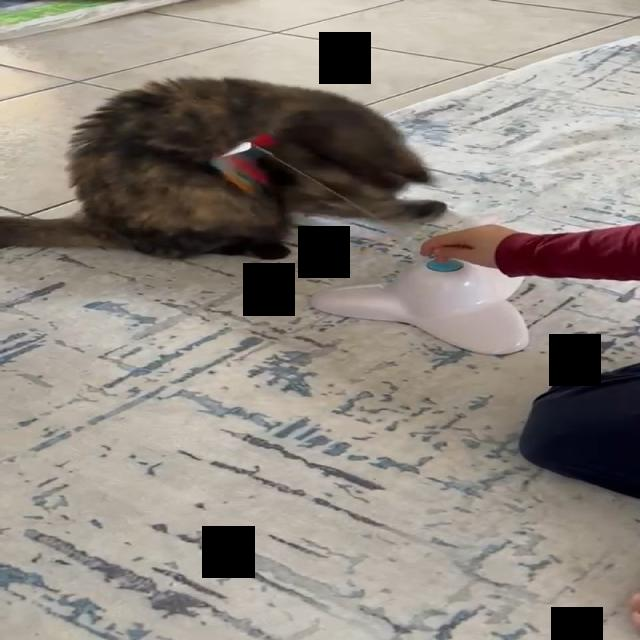authorized: (0, 76, 447, 260)
